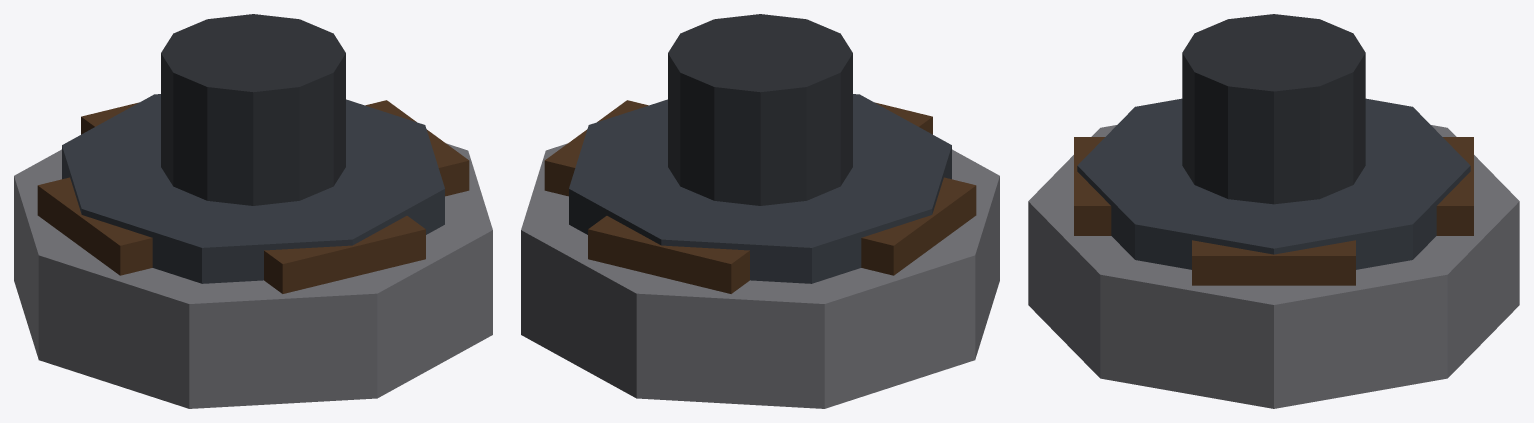
The model's file is TurretBase.obj.
3 renders of one model, left to right at view 1: azimuth 30°, elevation 25°; view 2: azimuth 150°, elevation 25°; view 3: azimuth 270°, elevation 25°, orthographic.
Parts seen in each view (by area): view 1: TurretBase; view 2: TurretBase; view 3: TurretBase.
Boxes of the visible parts, bbox=[...] form: TurretBase: bbox=[14, 14, 492, 408]; TurretBase: bbox=[521, 14, 999, 408]; TurretBase: bbox=[1028, 14, 1519, 408].
Size of the model in its own units: 1.5 by 0.85 by 1.5.
